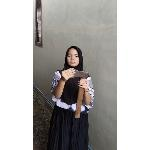Kapak: (66, 66, 92, 120)
